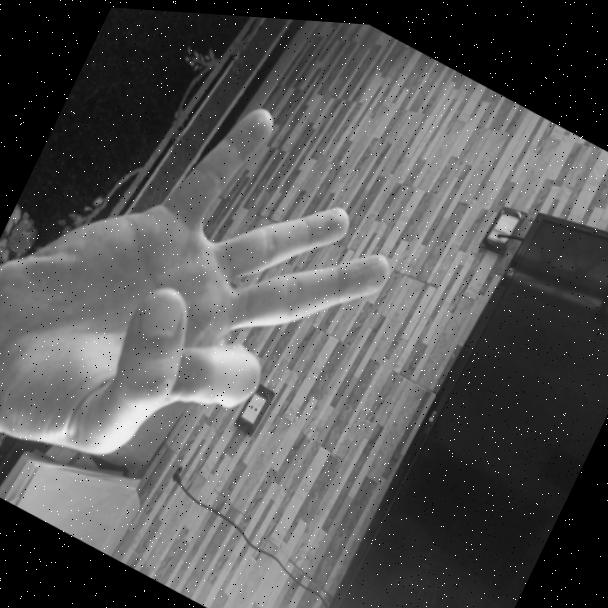five: (13, 49, 422, 533)
